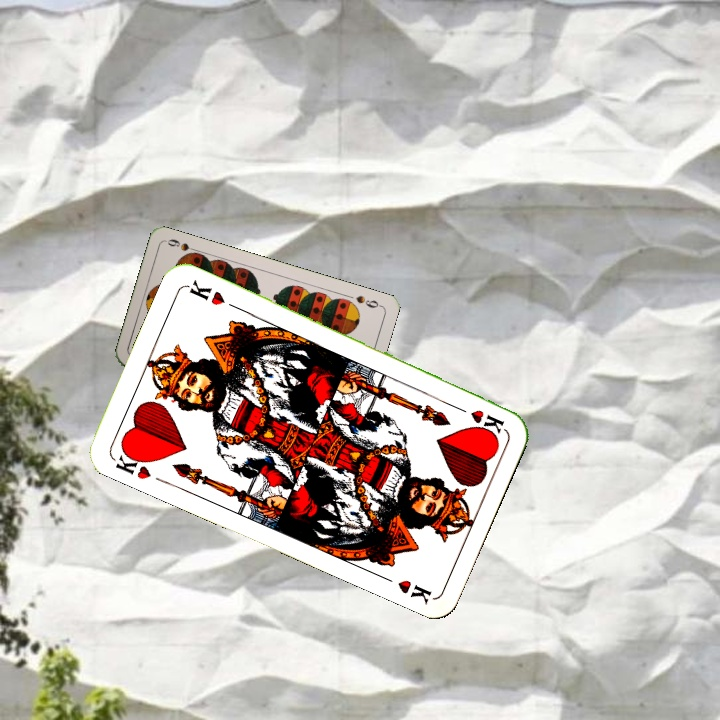HK: (450, 401, 507, 436), (110, 444, 155, 482)
S9: (351, 291, 384, 311)
